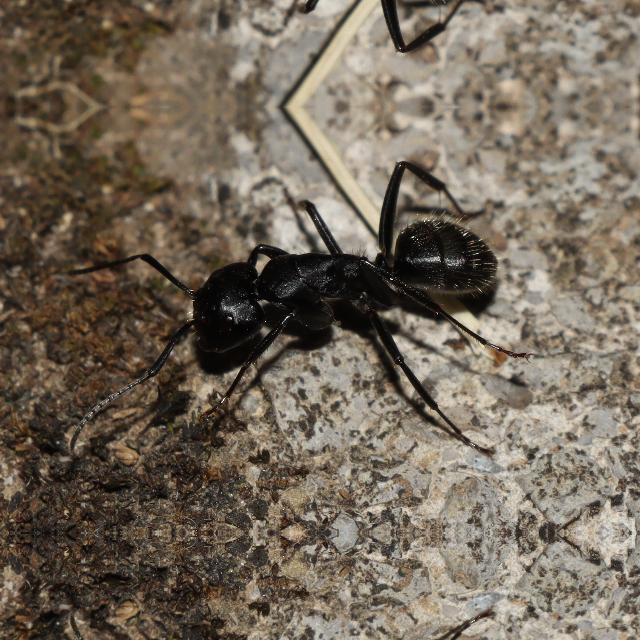Camponotus: (133, 154, 517, 398), (133, 0, 517, 56)
